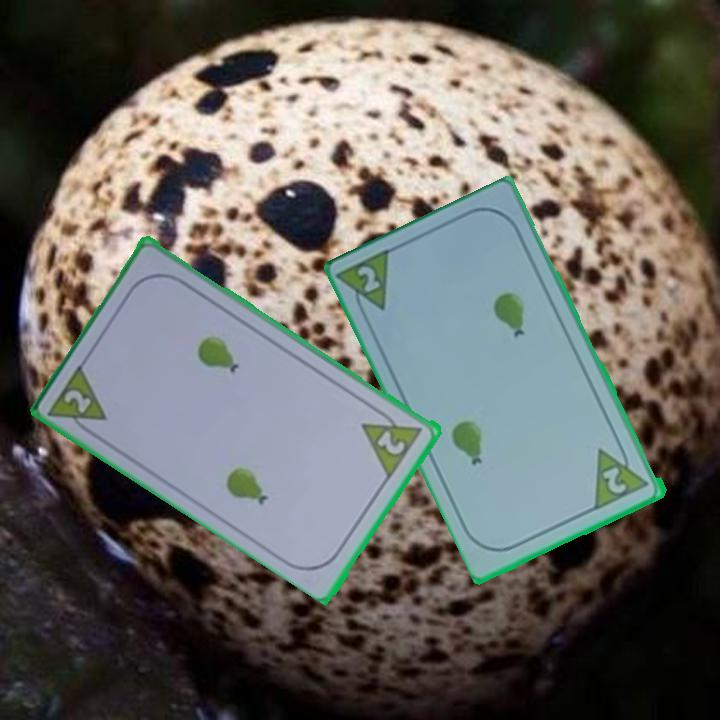2p: (45, 359, 112, 441), (336, 245, 397, 325), (591, 437, 653, 513), (374, 427, 409, 458)
